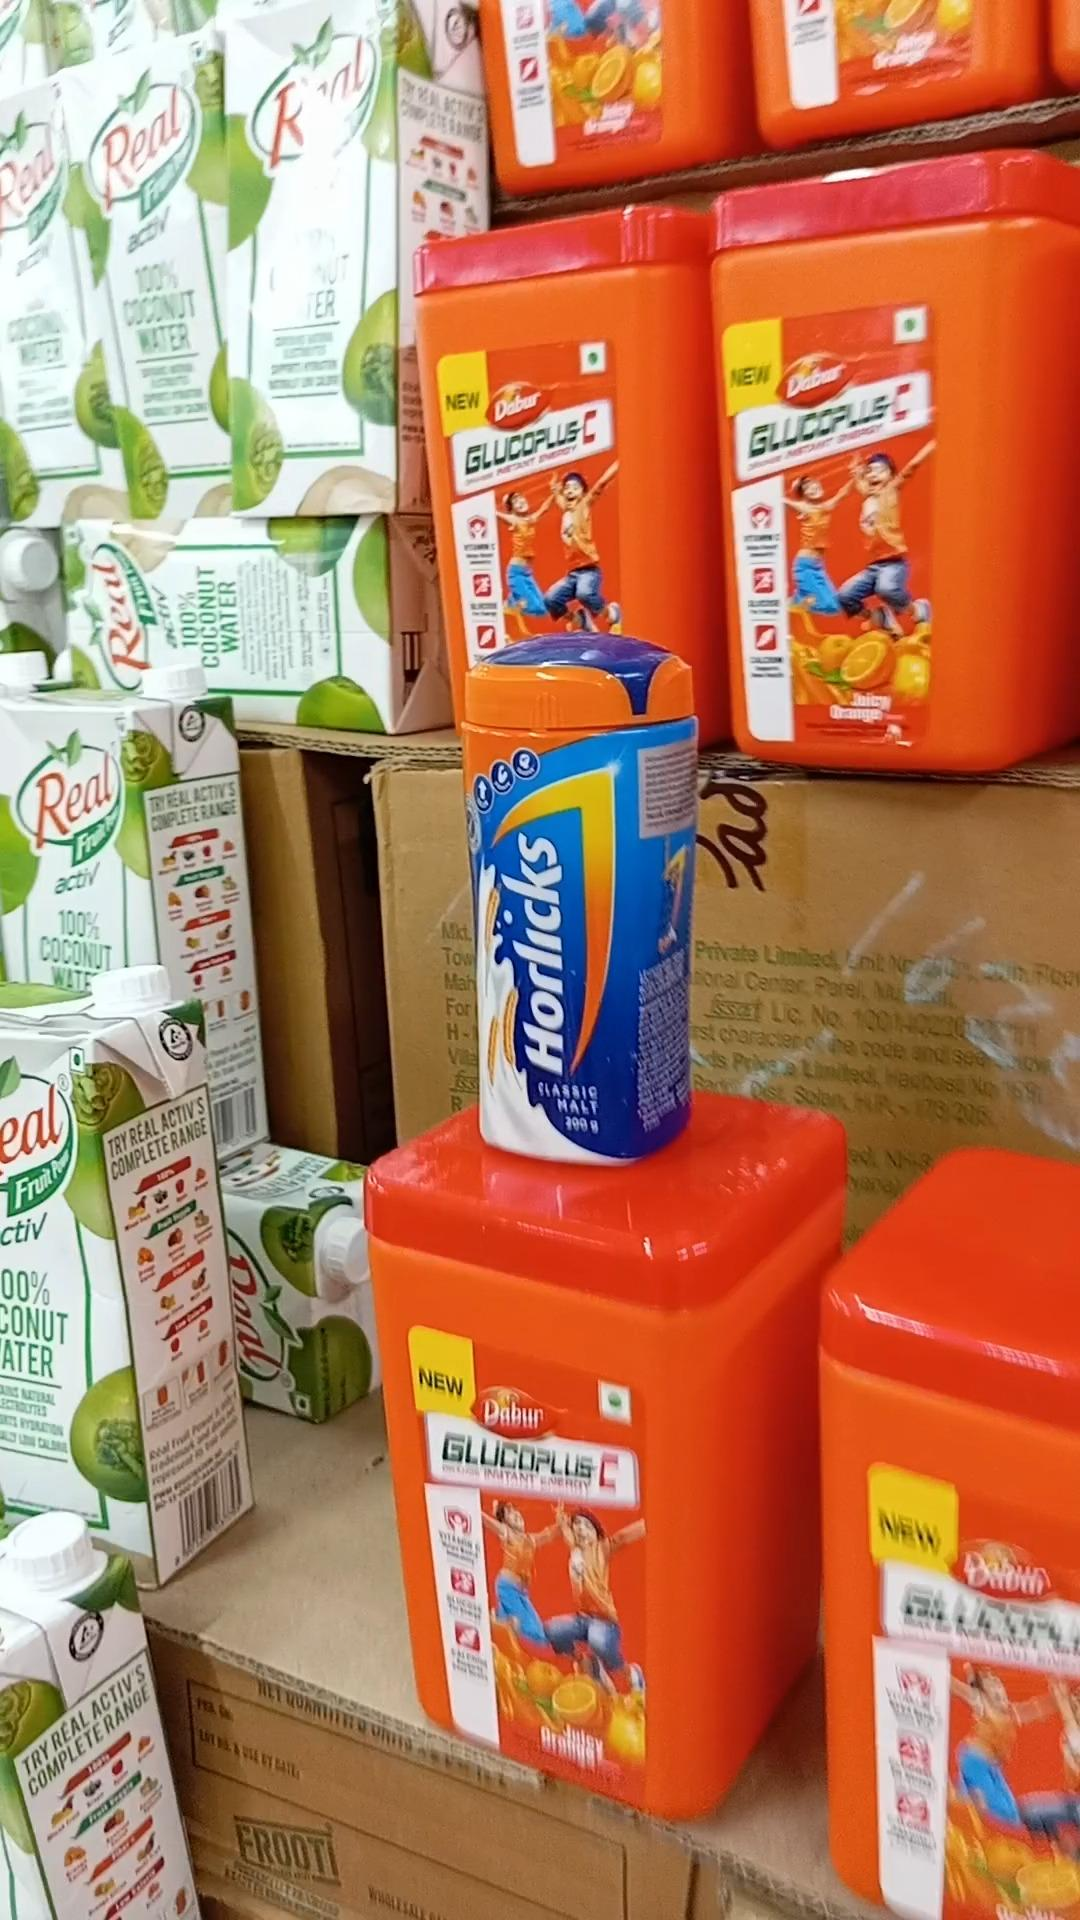HORLICK_CLASSIC_MALT_200_G_JAR: (462, 642, 650, 1159)
